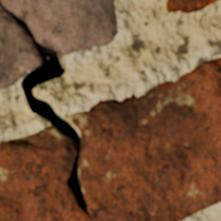brick: (167, 0, 217, 13)
broken_brick: (0, 57, 220, 220), (0, 0, 119, 56), (0, 8, 40, 90)
crack: (0, 2, 91, 218)
